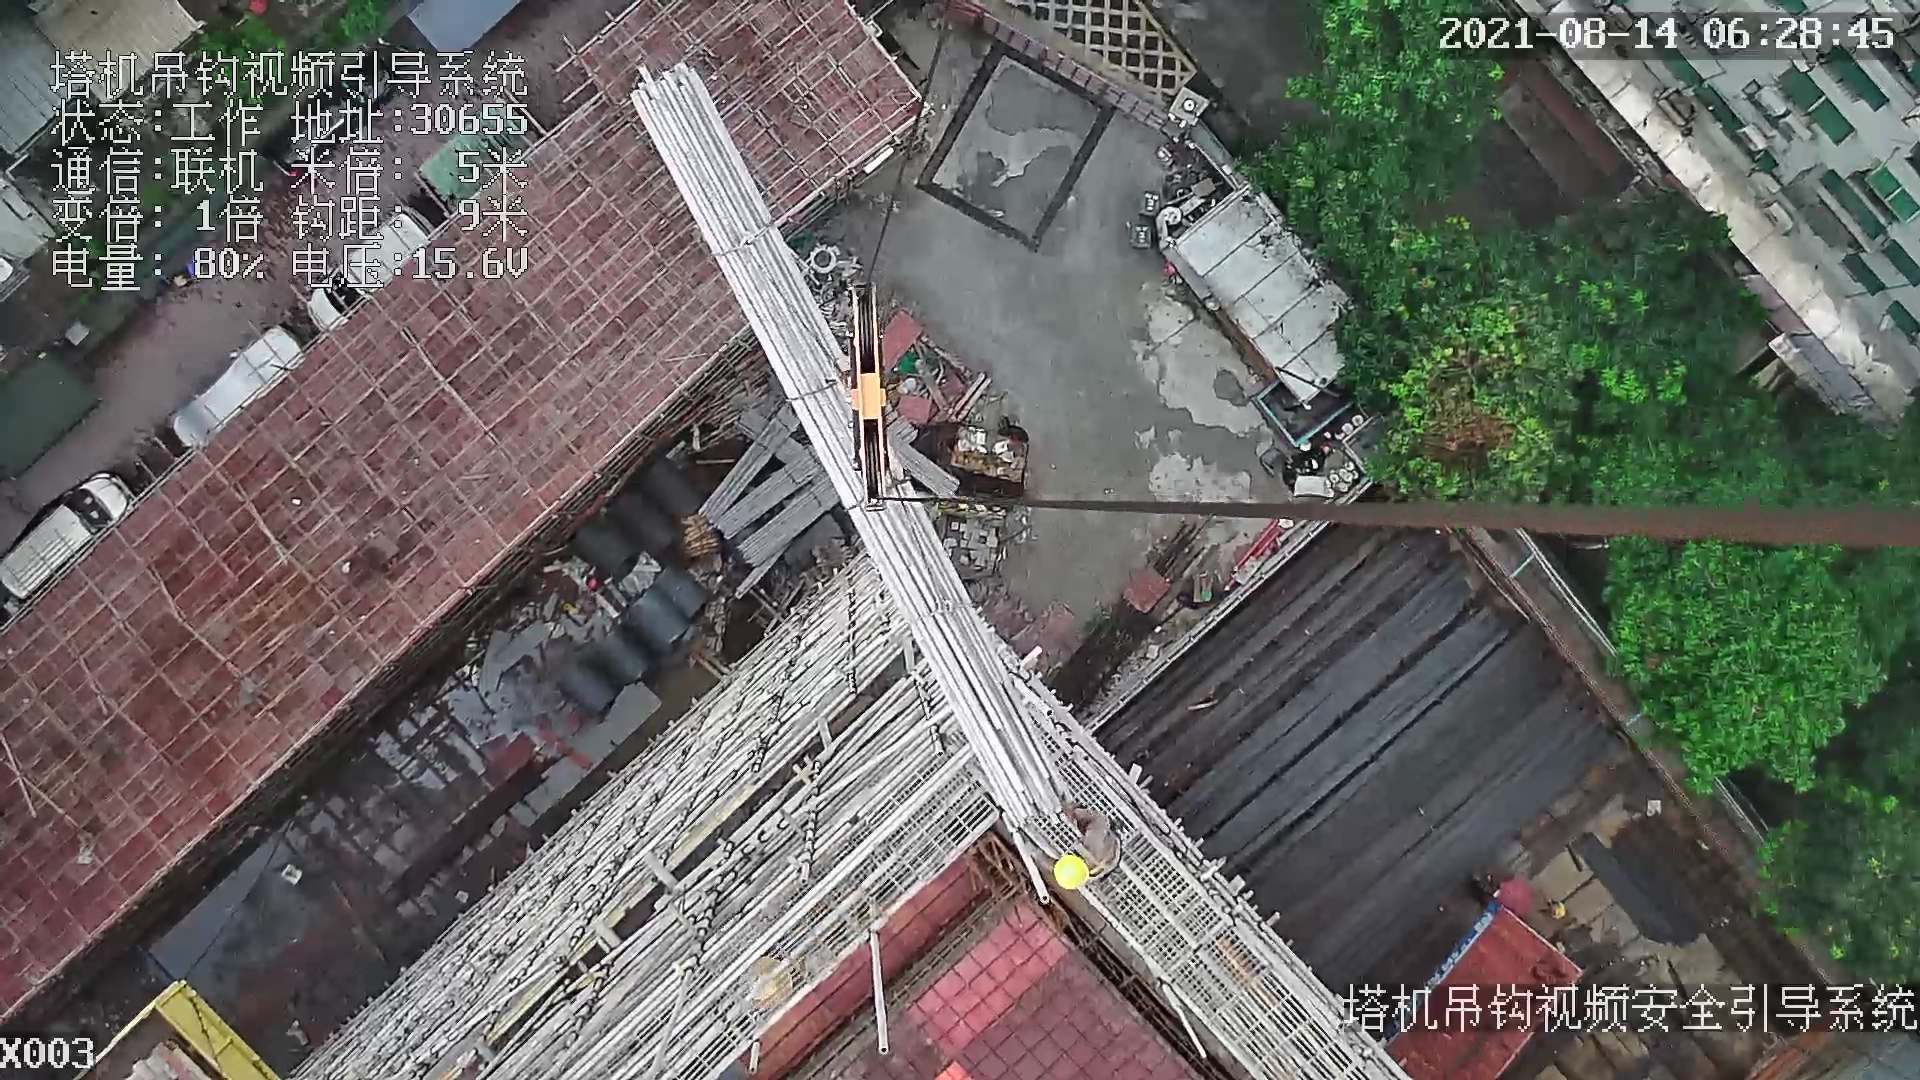helmet: (1052, 849, 1094, 906)
hook: (846, 285, 892, 516)
person: (1034, 804, 1124, 894)
